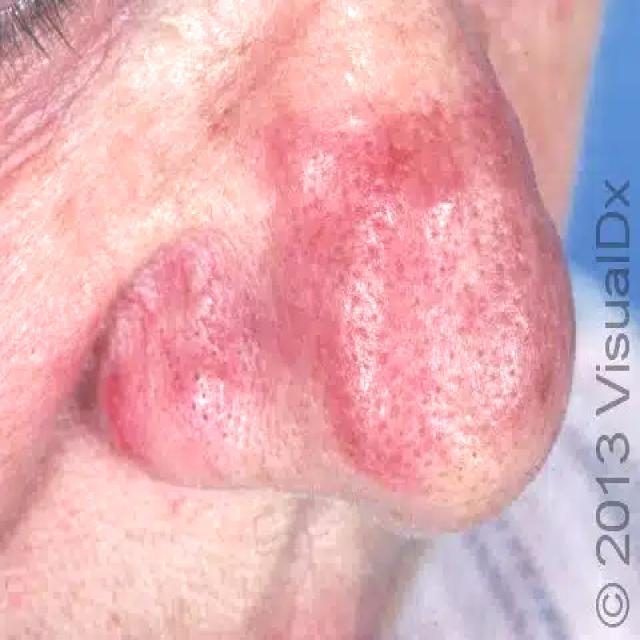Rosacea: (103, 100, 574, 484)
